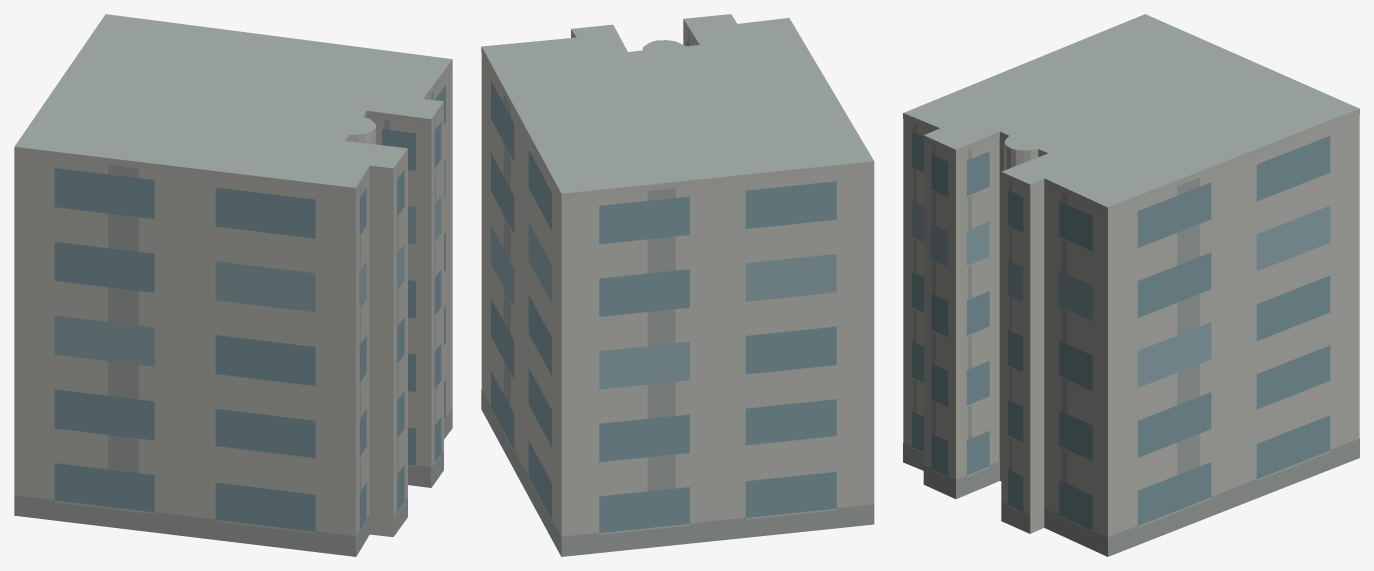
The model's file is survey-upis-32865703.glb.
The picture shows the model from 3 angles, left to right: view 1: azimuth 30°, elevation 25°; view 2: azimuth 150°, elevation 25°; view 3: azimuth 270°, elevation 25°; orthographic projection. The views are drawn at different scales.
Parts seen in each view (by area): view 1: survey-upis-32865703.tmp; view 2: survey-upis-32865703.tmp; view 3: survey-upis-32865703.tmp.
Boxes of the visible parts, x1=… form: survey-upis-32865703.tmp: x1=14, y1=14, x2=452, y2=556; survey-upis-32865703.tmp: x1=481, y1=14, x2=874, y2=556; survey-upis-32865703.tmp: x1=903, y1=14, x2=1359, y2=556.
Size of the model in its own units: 16.46 by 13.85 by 16.41.
